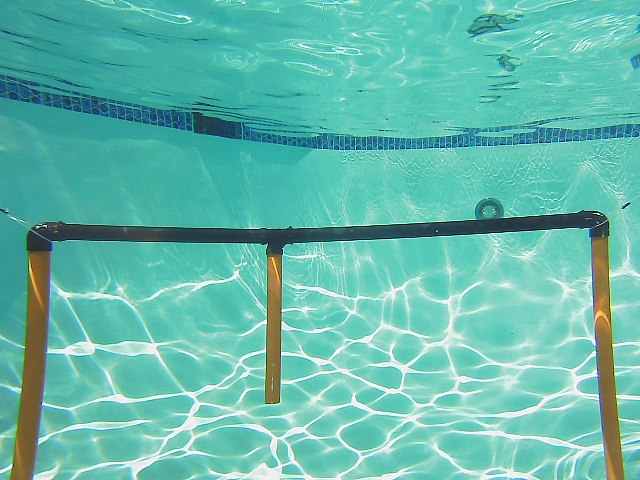Gate: (5, 245, 56, 480), (587, 231, 629, 478), (262, 247, 283, 409)
